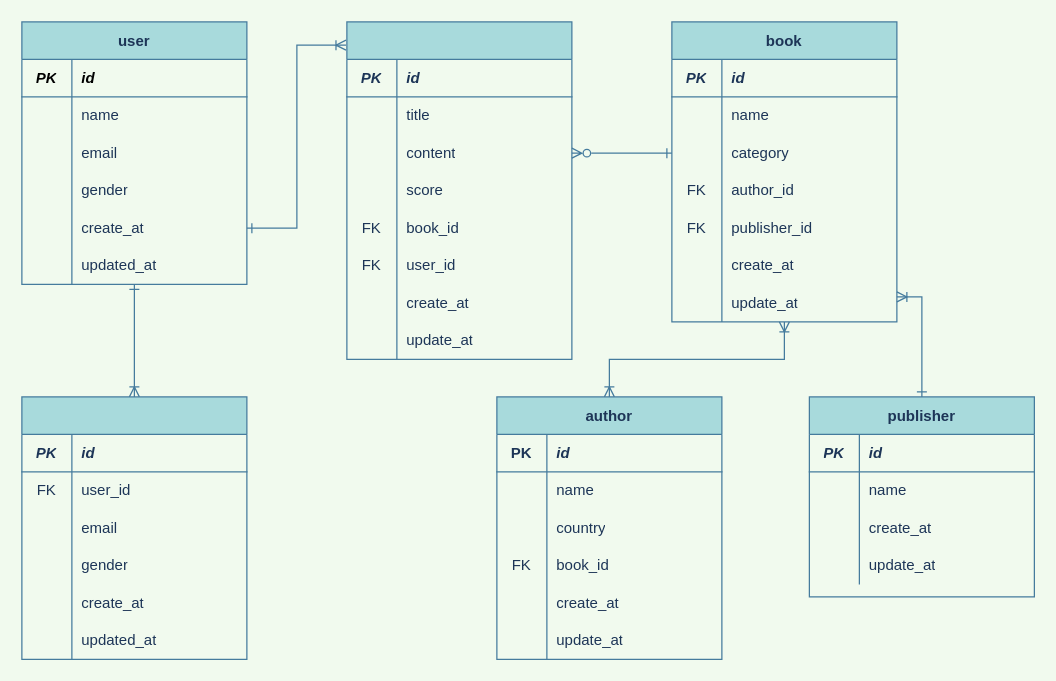
The diagram is 1056 pixels wide and 681 high, and some of its shapes have lost their labels. Here are the shapes that lost their labels. From the top down, the box of each, then its label:
(346, 21, 572, 359): review
(21, 396, 247, 659): user_history
